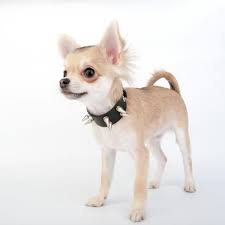chihuahua: (31, 15, 210, 220)
